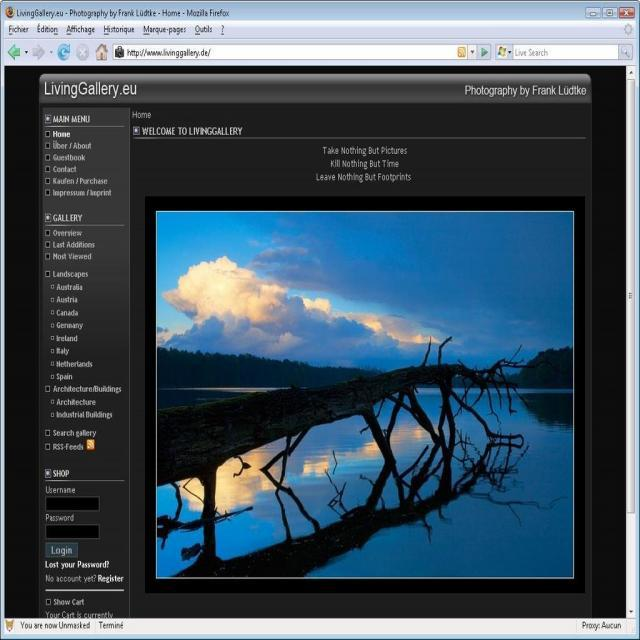others: (5, 1, 624, 640)
